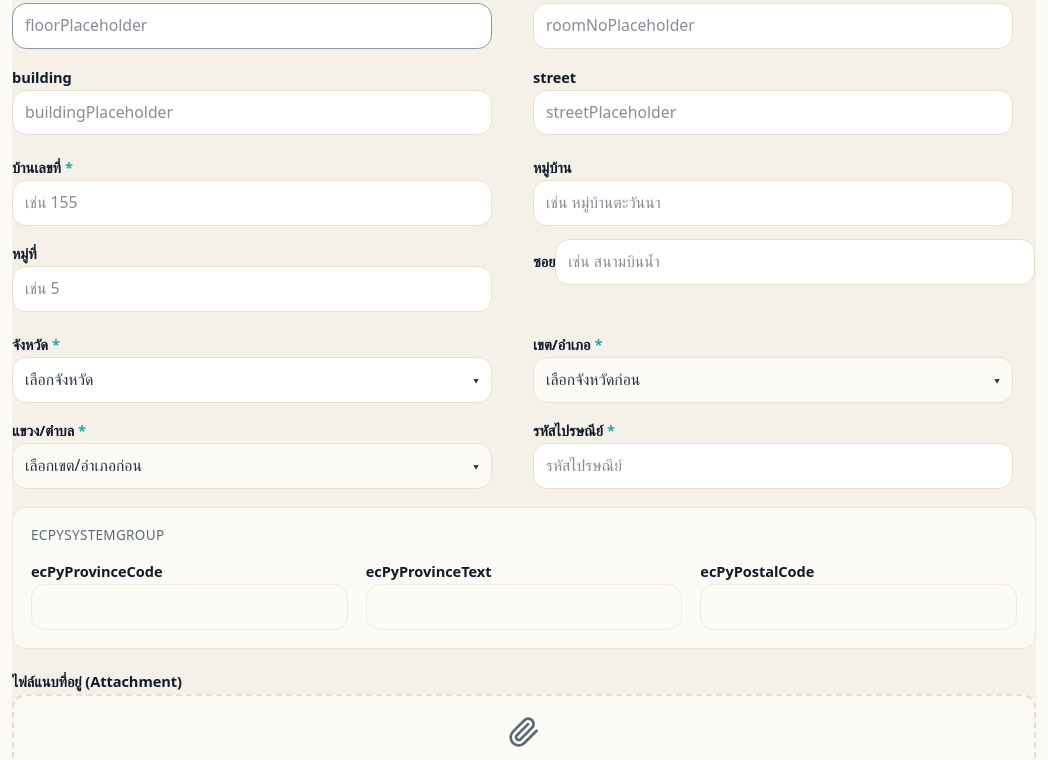
Scenario: StepContact address picklist (Phase 2) › auto-fills single postal code when district with 1 zip is selected
(page scrolled)
Note: Select province นนทบุรี
What coordinates should you click on to do the following:
click the button "เลือกจังหวัด ▾"
I would click on:
 (59, 379)
Its box is x1=12 y1=357 x2=492 y2=402.
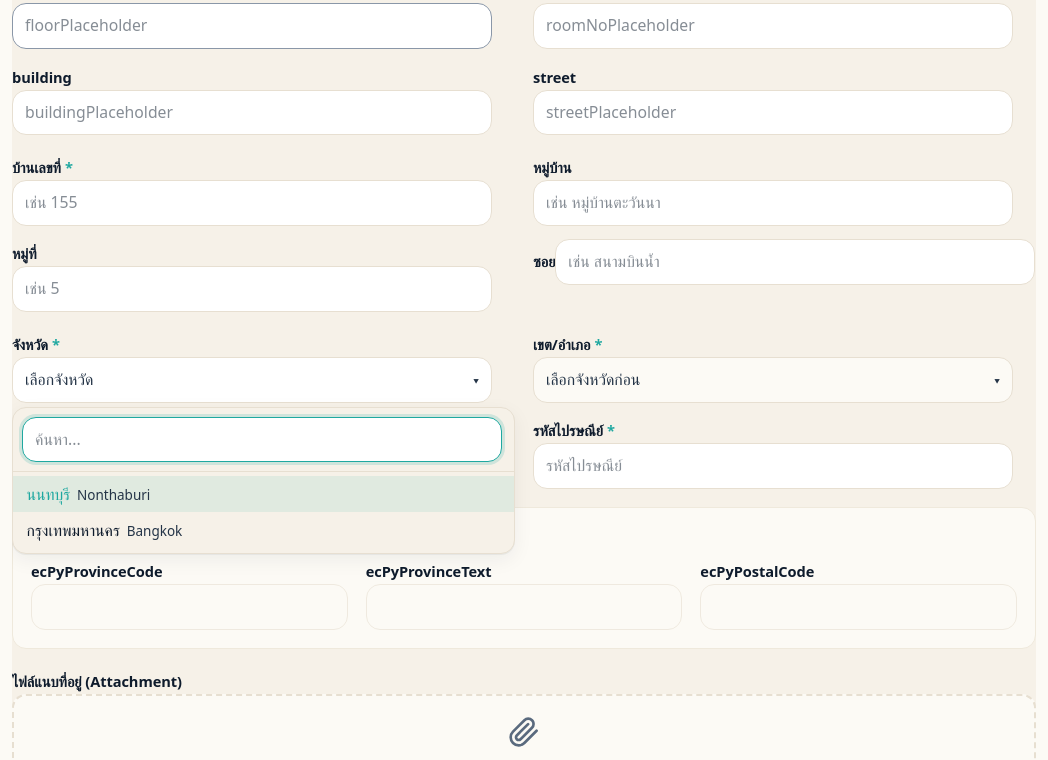
Check: the text "นนทบุรี" is shown
What coordinates should you click on to do the following:
click the text "นนทบุรี"
I would click on:
 (48, 494)
Its box is x1=26 y1=483 x2=70 y2=505.
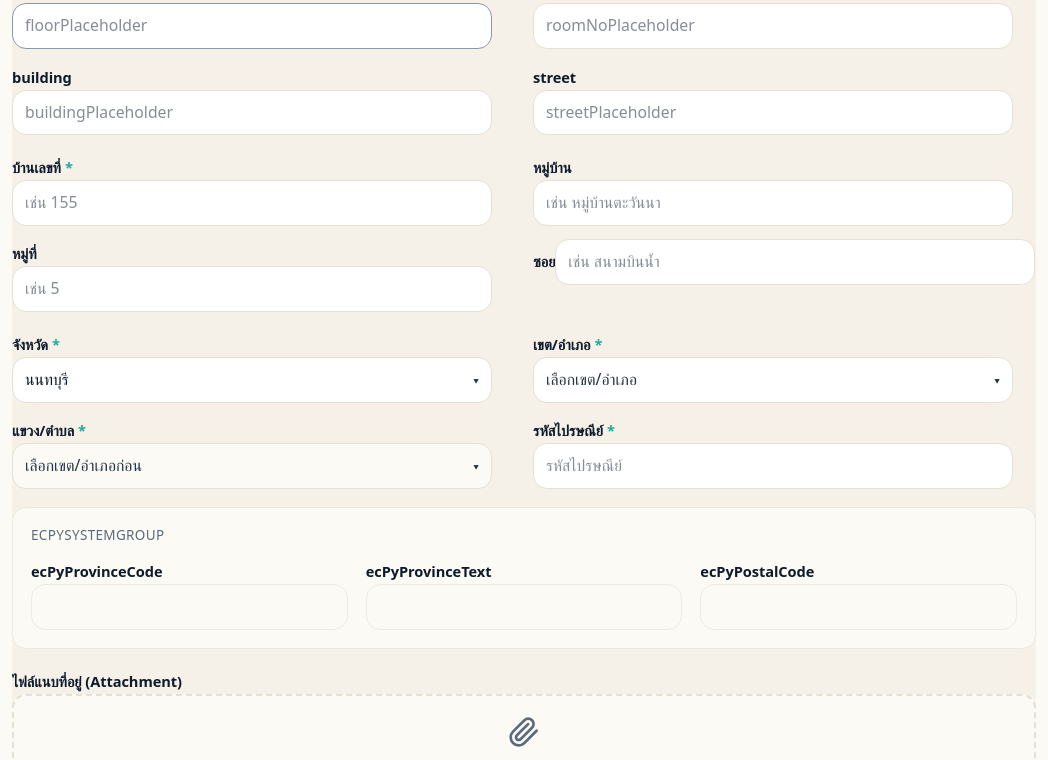
Check: the button "เลือกเขต/อำเภอ ▾" is enabled
What coordinates should you click on to do the following:
click the button "เลือกเขต/อำเภอ ▾"
I would click on:
 (591, 379)
Its box is x1=533 y1=357 x2=1013 y2=402.
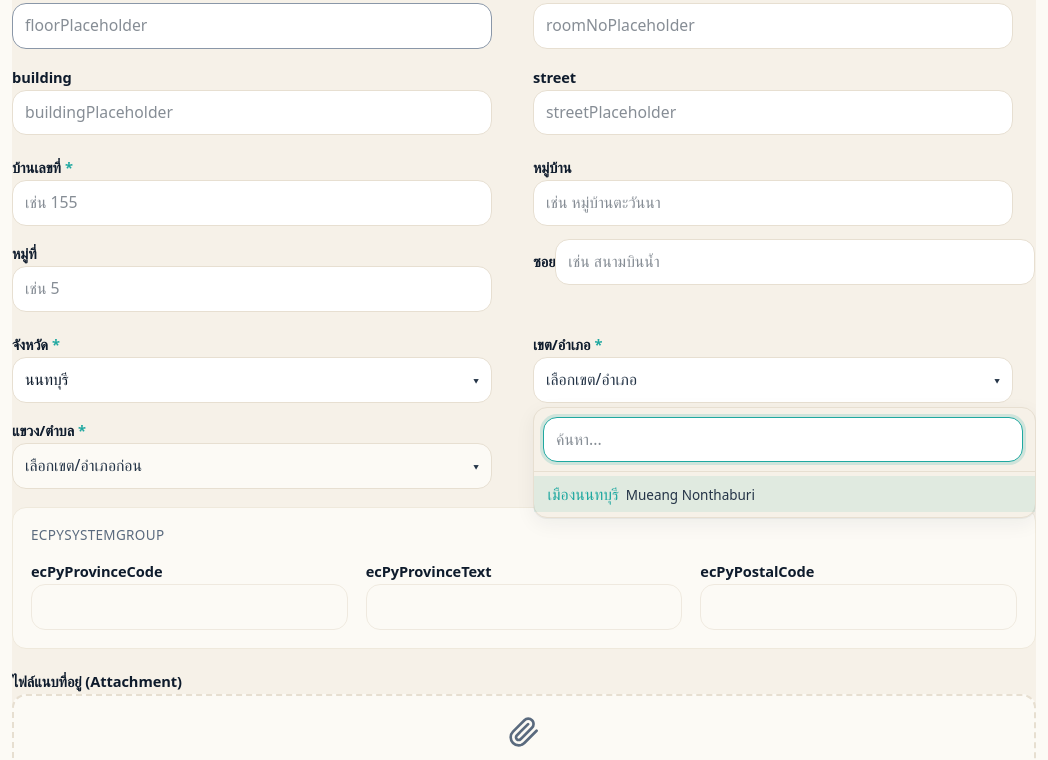
Check: the text "เมืองนนทบุรี" is shown
What coordinates should you click on to do the following:
click the text "เมืองนนทบุรี"
I would click on:
 (583, 494)
Its box is x1=548 y1=483 x2=619 y2=505.
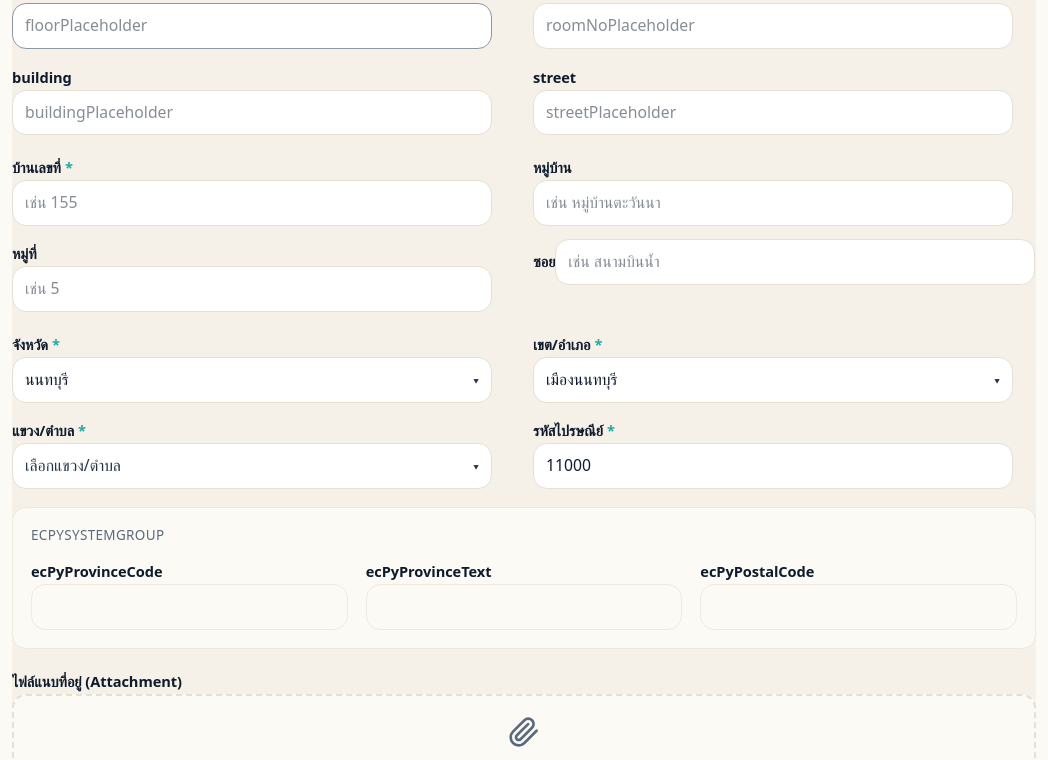
Check: the field labelled "รหัสไปรษณีย์*" holds "11000", box x1=533 y1=443 x2=1013 y2=489
